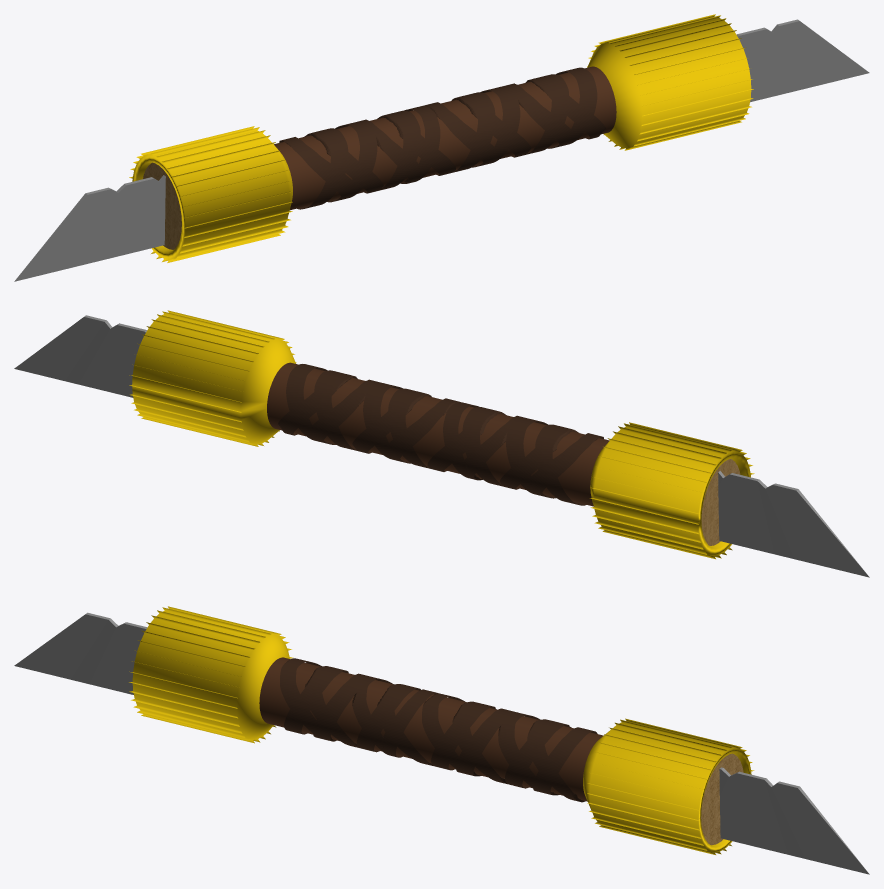
Rendered from Weapon.fbx.
The picture shows the model from 3 angles, top to bottom: view 1: azimuth 30°, elevation 25°; view 2: azimuth 150°, elevation 25°; view 3: azimuth 330°, elevation 25°; orthographic projection.
Visible parts, largest first — view 1: Torus.005, Cylinder.005, Cylinder.003, Cylinder.001, Cylinder, Cylinder.002, Cylinder.004; view 2: Torus.005, Cylinder.005, Cylinder.003, Cylinder.001, Cylinder, Cylinder.002, Cylinder.004; view 3: Torus.005, Cylinder.003, Cylinder.005, Cylinder, Cylinder.002, Cylinder.001, Cylinder.006.
Part boxes in pixels (<box>): Torus.005: <box>279,67,605,209</box>; Cylinder.005: <box>587,14,753,150</box>; Cylinder.003: <box>129,126,292,262</box>; Cylinder.001: <box>14,175,165,281</box>; Cylinder: <box>274,66,616,210</box>; Cylinder.002: <box>736,19,869,102</box>; Cylinder.004: <box>143,162,181,249</box>; Torus.005: <box>277,364,603,505</box>; Cylinder.005: <box>129,310,296,446</box>; Cylinder.003: <box>590,422,754,559</box>; Cylinder.001: <box>718,471,869,577</box>; Cylinder: <box>267,362,609,506</box>; Cylinder.002: <box>14,315,146,397</box>; Cylinder.004: <box>701,459,740,545</box>; Torus.005: <box>280,658,597,802</box>; Cylinder.003: <box>129,606,293,743</box>; Cylinder.005: <box>583,718,754,854</box>; Cylinder: <box>259,657,603,801</box>; Cylinder.002: <box>719,767,869,874</box>; Cylinder.001: <box>14,612,147,694</box>; Cylinder.006: <box>701,753,743,845</box>.
Size of the model in its own units: 1842 by 211 by 211.
5 materials, 1 textured.
